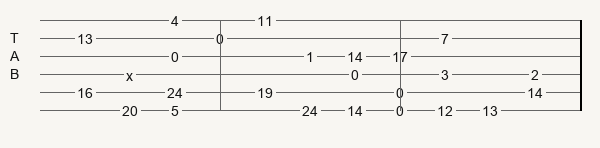0: (171, 49, 183, 63), (216, 31, 228, 45), (351, 67, 363, 81), (396, 85, 408, 99), (396, 103, 408, 117)
1: (306, 49, 318, 63)
11: (257, 13, 277, 27)
12: (437, 103, 457, 117)
13: (77, 31, 97, 45), (482, 103, 502, 117)
14: (347, 103, 367, 117), (347, 49, 367, 63), (527, 85, 547, 99)
16: (77, 85, 97, 99)
17: (392, 49, 412, 63)
19: (257, 85, 277, 99)
2: (531, 67, 543, 81)
20: (122, 103, 142, 117)
24: (167, 85, 187, 99), (302, 103, 322, 117)
3: (441, 67, 453, 81)
4: (171, 13, 183, 27)
5: (171, 103, 183, 117)
7: (441, 31, 453, 45)
x: (126, 68, 137, 80)
